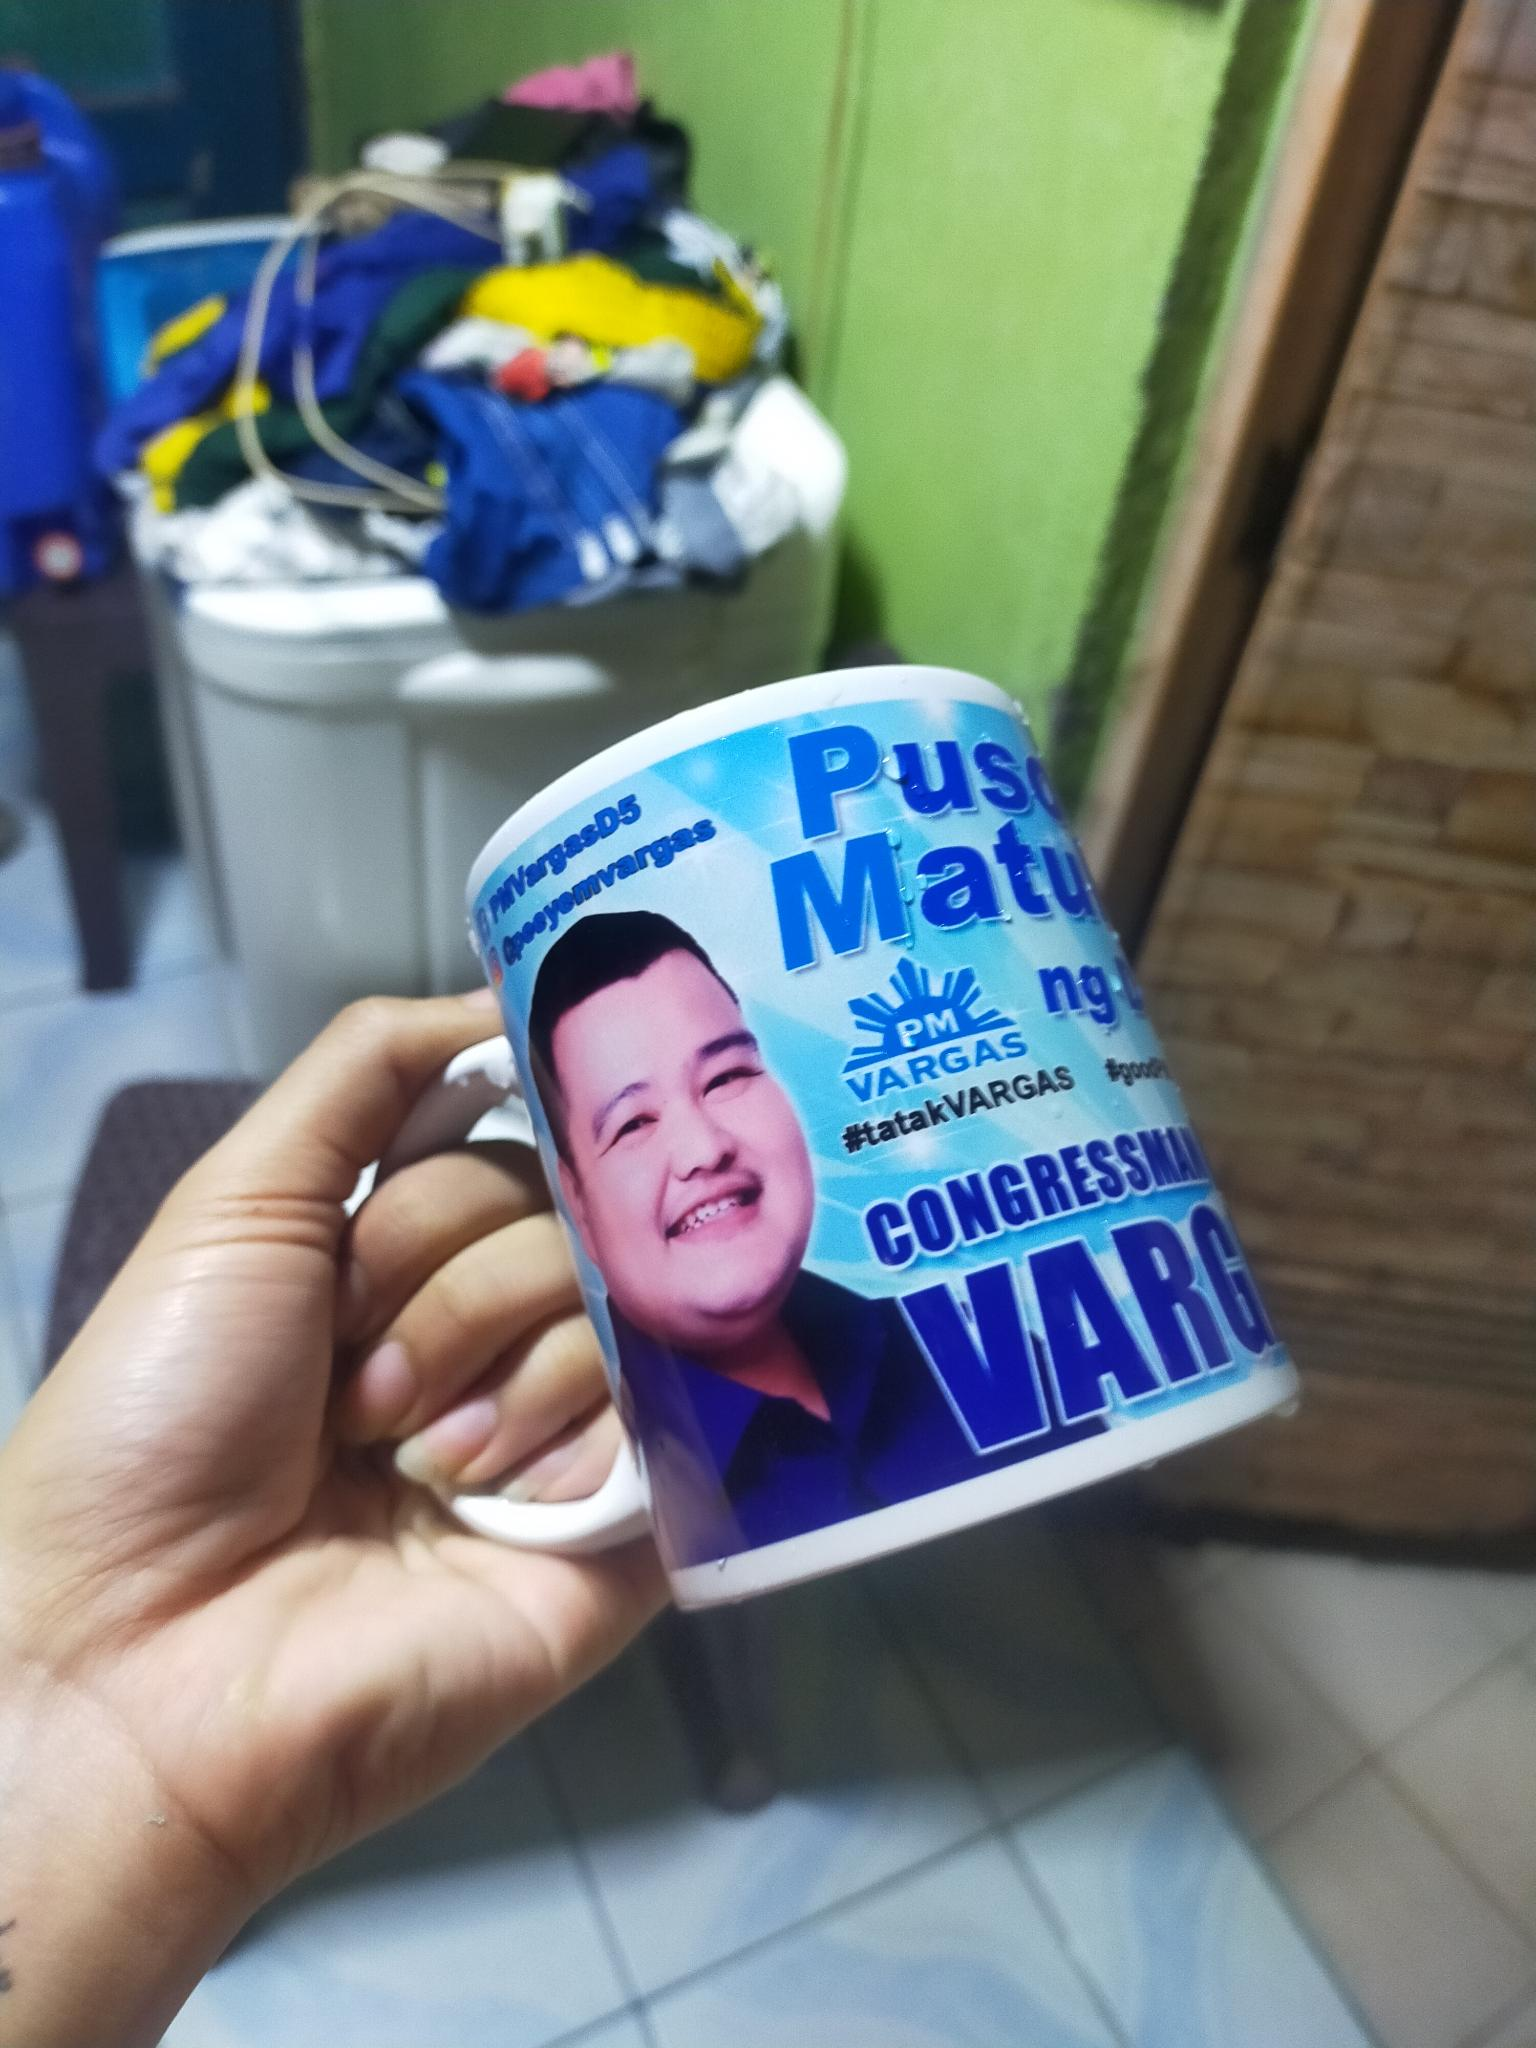Coffee Mug: (392, 663, 1300, 1634)
